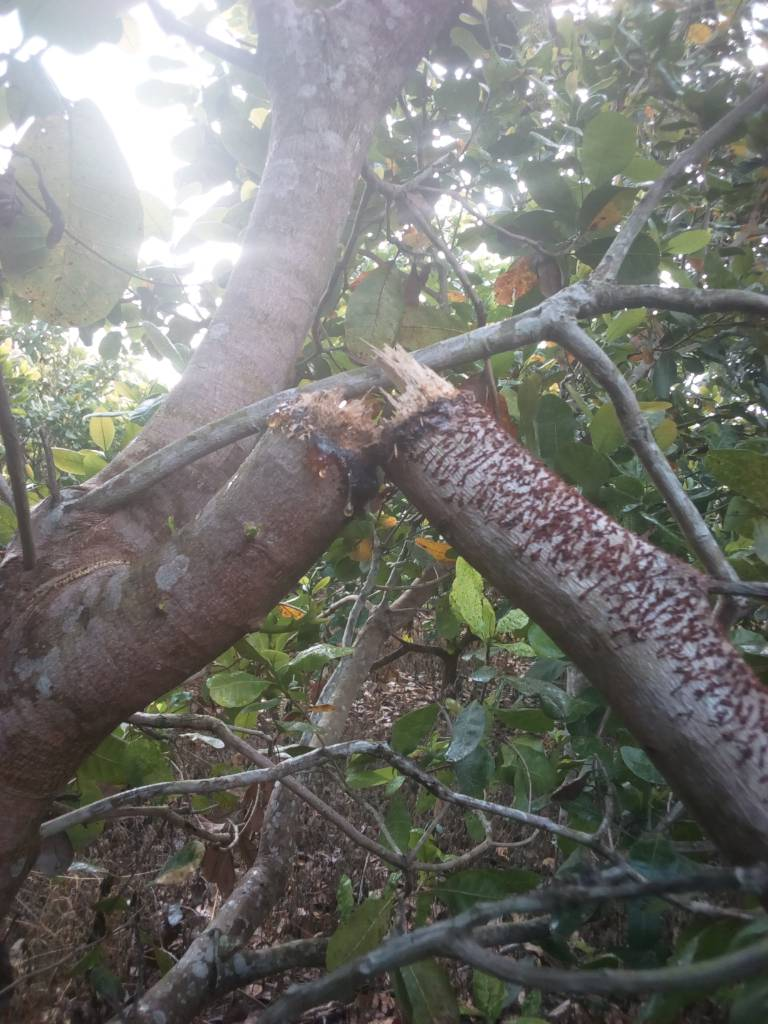Analepse trifasciata: (254, 327, 488, 516)
